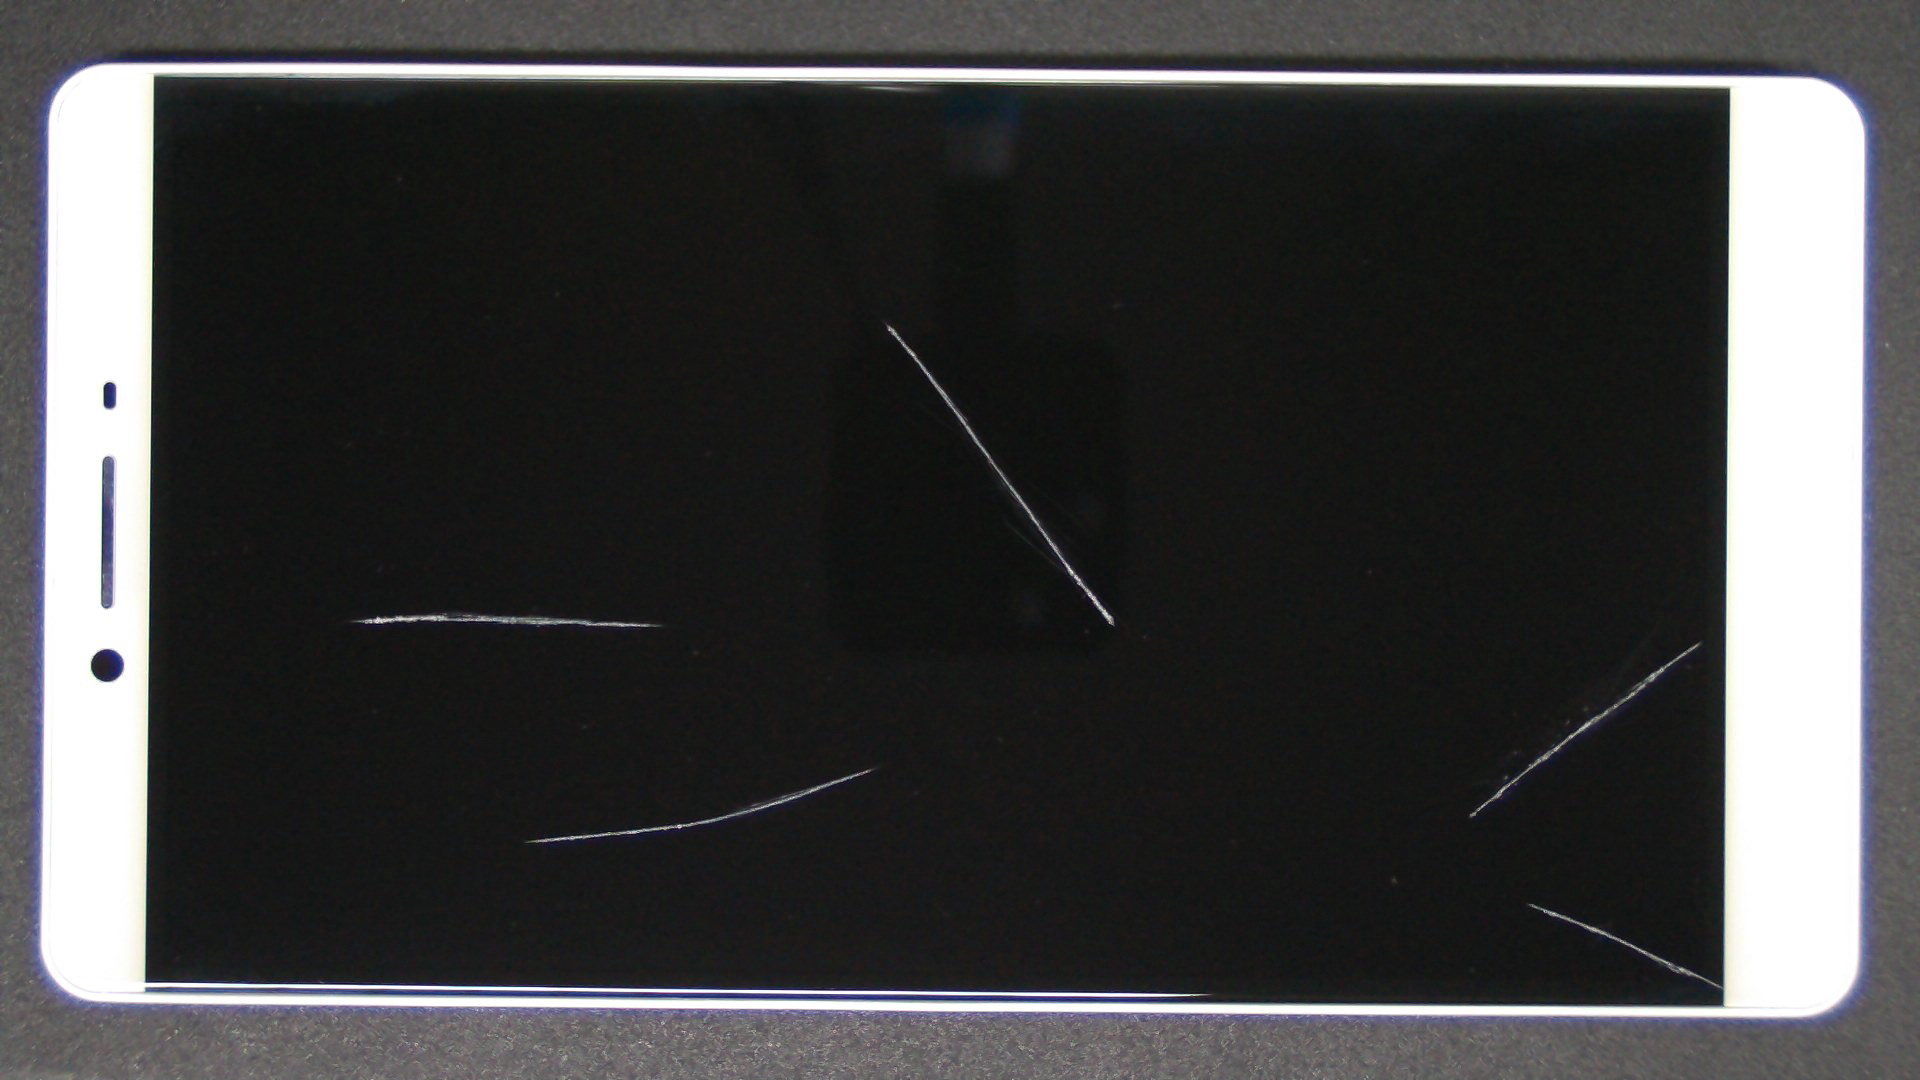defect: (884, 323, 1116, 626), (1468, 640, 1701, 818), (522, 767, 877, 844), (1527, 903, 1722, 989), (345, 612, 665, 628)
